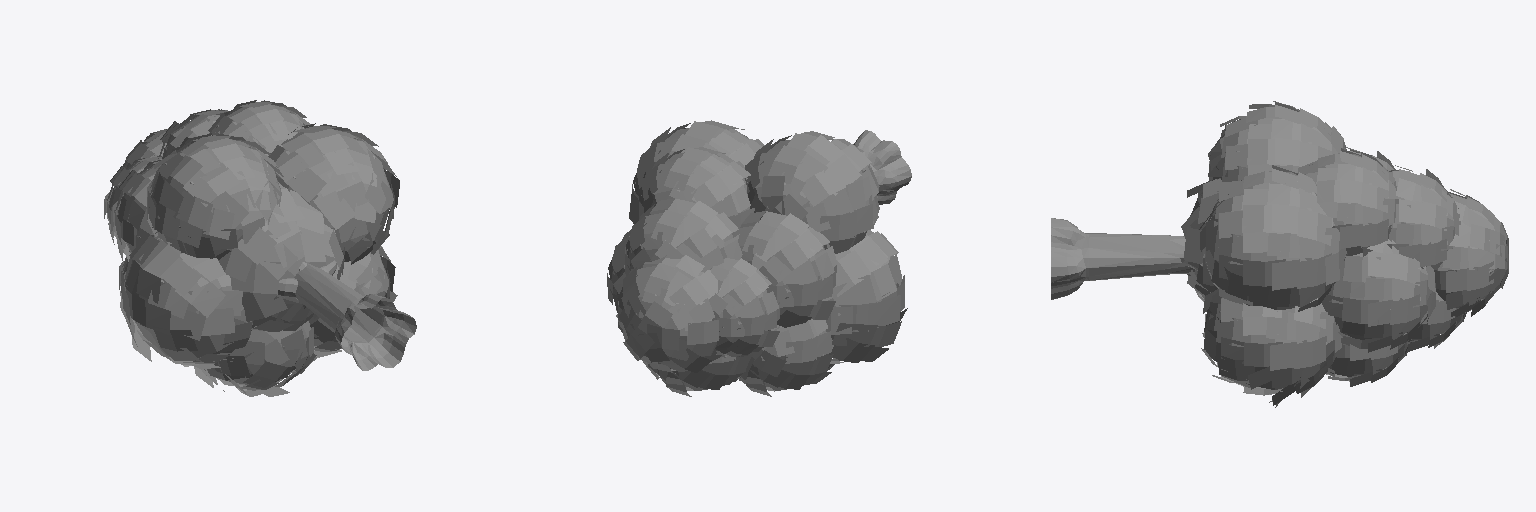
The model's file is Tree001.obj.
3 views of the same model, side by side, from view 1: azimuth 30°, elevation 25°; view 2: azimuth 150°, elevation 25°; view 3: azimuth 270°, elevation 25° (orthographic).
Visible parts, largest first — view 1: Tree__TreeLeaf00, Tree__TreeBark01, Tree__TreeLeaf01_rep; view 2: Tree__TreeLeaf00, Tree__TreeBark01, Tree__TreeLeaf01_rep; view 3: Tree__TreeLeaf00, Tree__TreeBark01, Tree__TreeLeaf01_rep.
Boxes of the visible parts, x1=… form: Tree__TreeLeaf00: x1=104, y1=100, x2=399, y2=396; Tree__TreeBark01: x1=278, y1=260, x2=416, y2=370; Tree__TreeLeaf01_rep: x1=109, y1=104, x2=388, y2=384; Tree__TreeLeaf00: x1=607, y1=120, x2=907, y2=396; Tree__TreeBark01: x1=853, y1=130, x2=911, y2=204; Tree__TreeLeaf01_rep: x1=619, y1=129, x2=896, y2=386; Tree__TreeLeaf00: x1=1181, y1=101, x2=1508, y2=407; Tree__TreeBark01: x1=1051, y1=218, x2=1202, y2=299; Tree__TreeLeaf01_rep: x1=1195, y1=118, x2=1498, y2=389.
Bounding box in the file's own units: 1085 × 1038 × 1652.